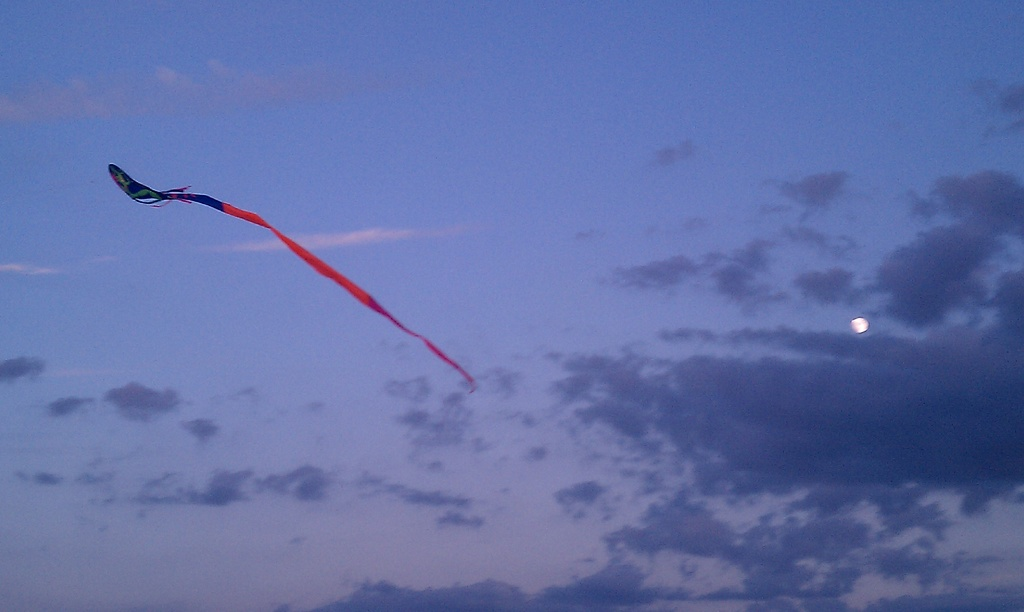kite: (91, 152, 483, 392)
